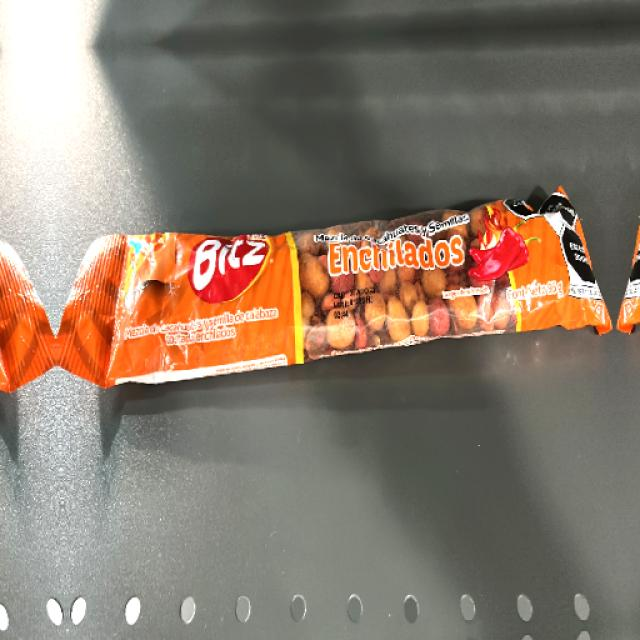bitzEnchilado95: (101, 210, 589, 362)
